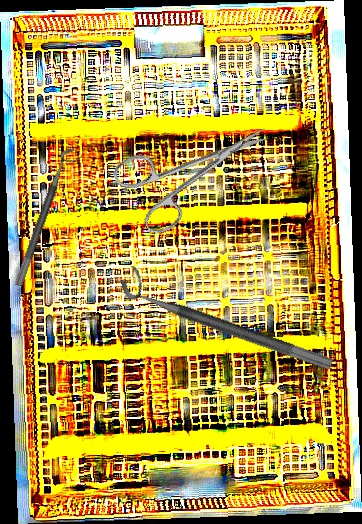Fixation Ring: (117, 264, 340, 372), (13, 144, 85, 292)
Iris Scissors: (109, 98, 287, 242)
